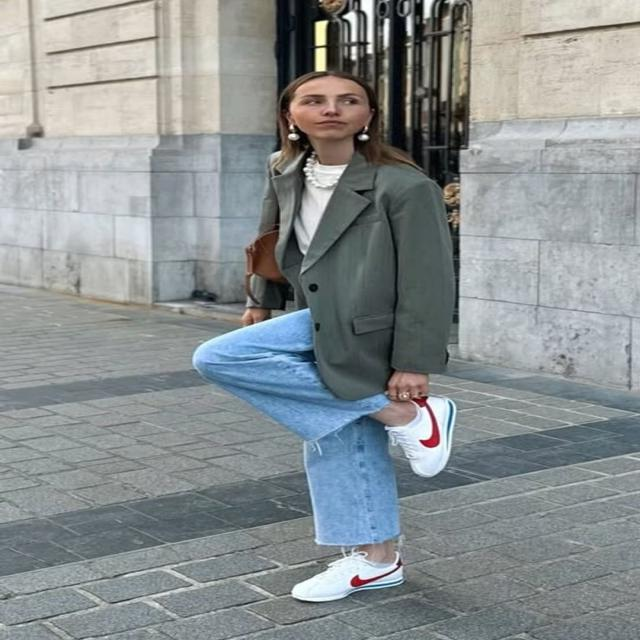nike: (413, 398, 445, 456), (342, 560, 410, 586)
